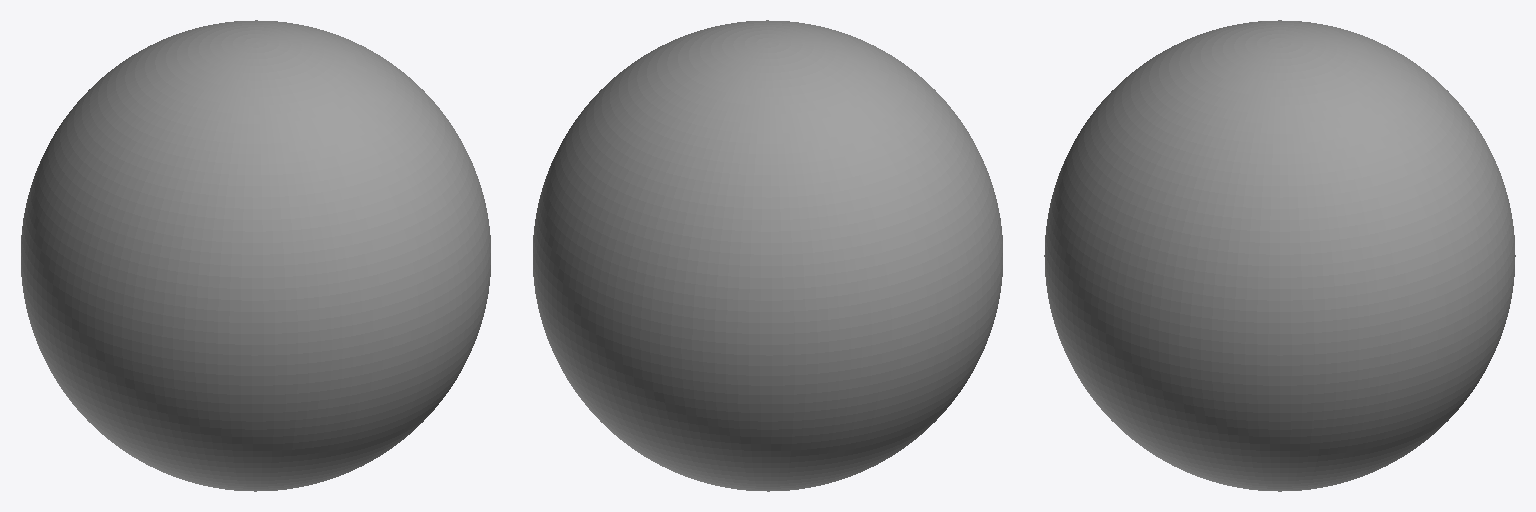
The model's file is sun.obj.
3 views of the same model, side by side, from view 1: azimuth 30°, elevation 25°; view 2: azimuth 150°, elevation 25°; view 3: azimuth 270°, elevation 25° (orthographic).
Parts seen in each view (by area): view 1: Sphere; view 2: Sphere; view 3: Sphere.
Part boxes in pixels (left/top/right/bottom): Sphere: left=21, top=20, right=490, bottom=491; Sphere: left=533, top=20, right=1002, bottom=491; Sphere: left=1044, top=20, right=1515, bottom=491.
Size of the model in its own units: 1391 by 1391 by 1391.